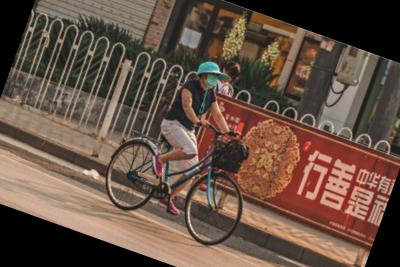with_mask: (201, 67, 221, 89)
without_mask: (223, 73, 237, 87)
